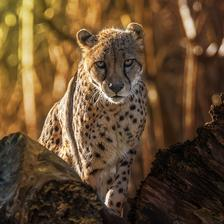Cheetah: (37, 23, 153, 216)
